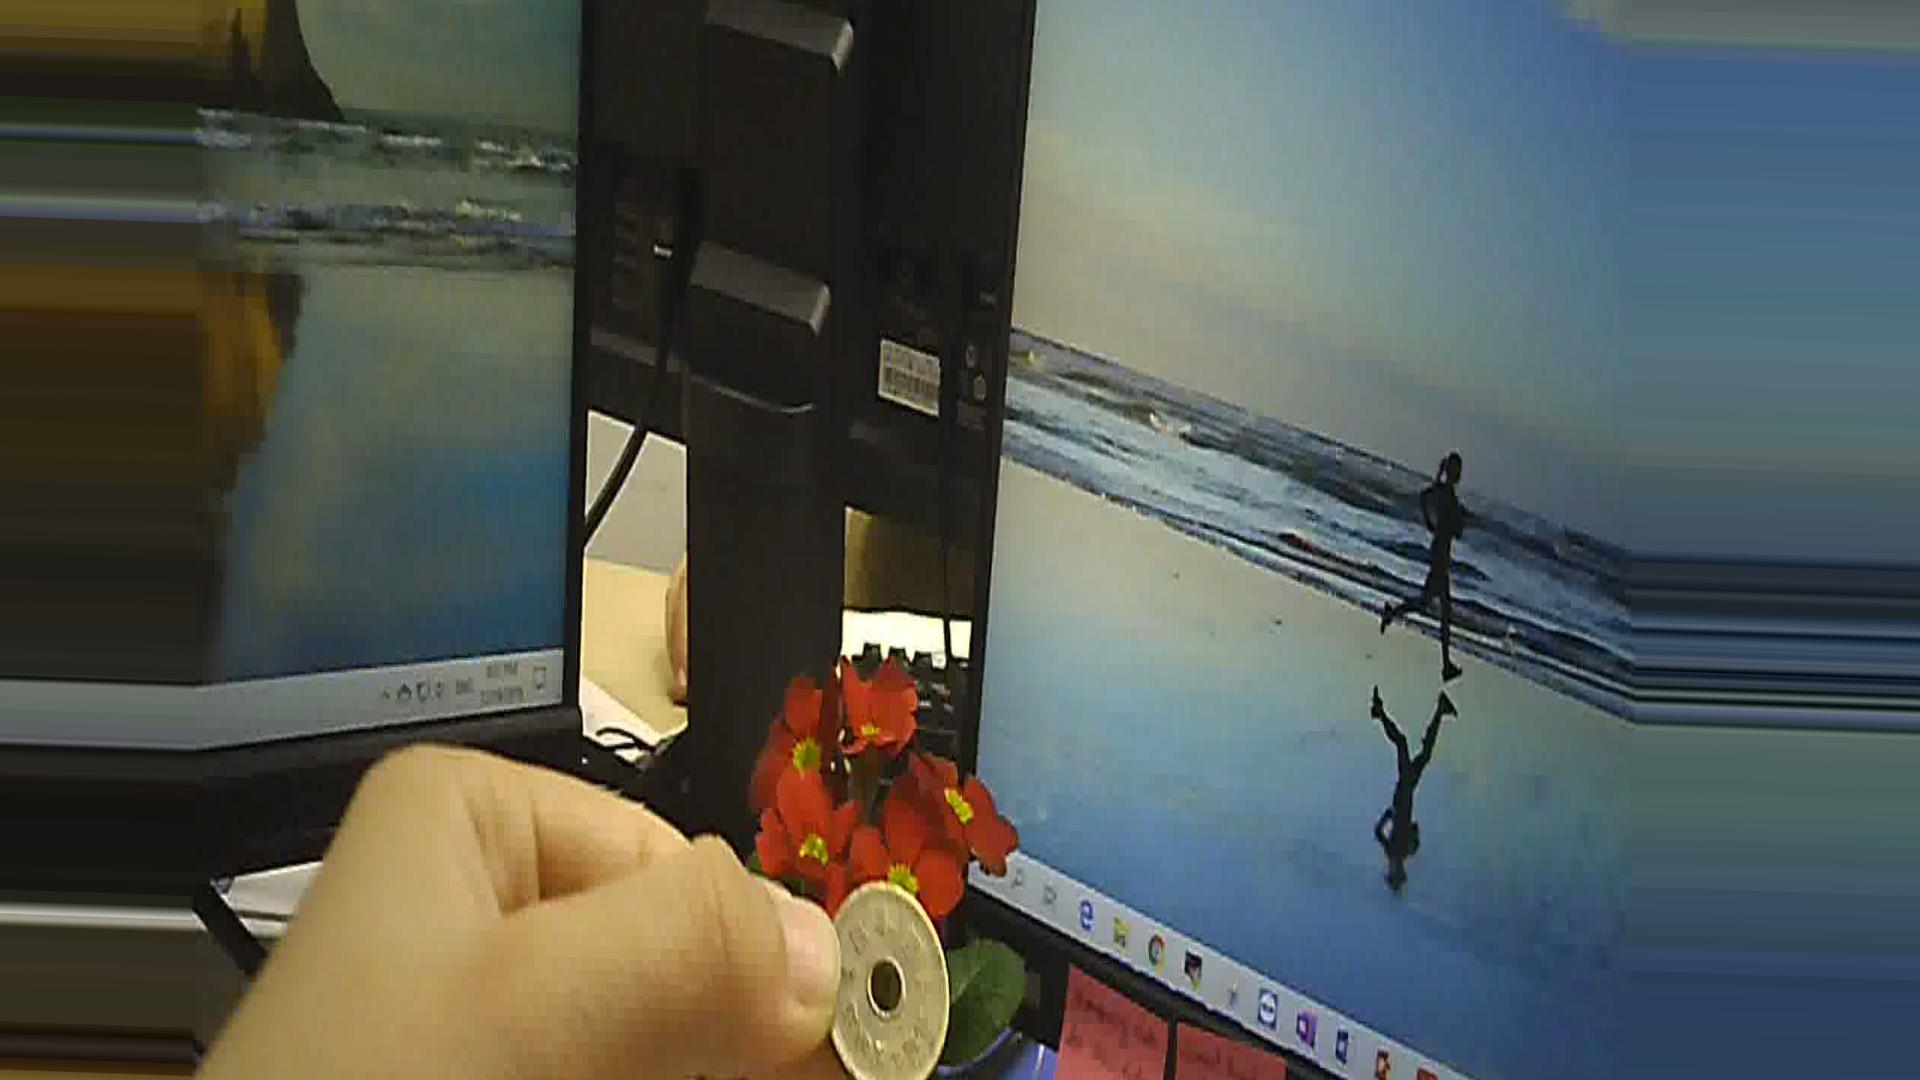5 Yen: (810, 877, 951, 1079)
